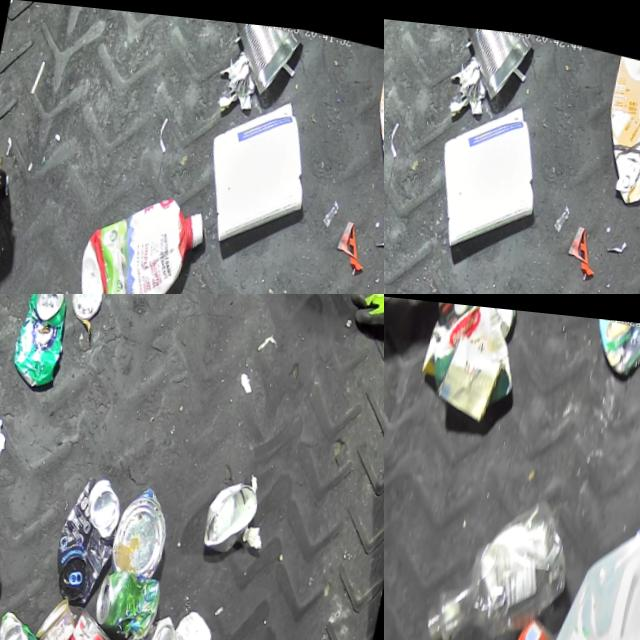can: (52, 460, 130, 601), (112, 471, 179, 571), (220, 16, 303, 95), (451, 21, 534, 100), (8, 294, 74, 385), (94, 555, 166, 634), (204, 459, 265, 546), (37, 595, 126, 640), (118, 595, 186, 640), (36, 585, 84, 640), (0, 602, 59, 640), (473, 302, 519, 335), (68, 294, 107, 315)
milk_jug: (525, 487, 640, 640)
non_white_jug: (71, 174, 211, 294), (590, 42, 640, 205), (359, 37, 384, 200)
plastic_bottle: (423, 471, 581, 640)
